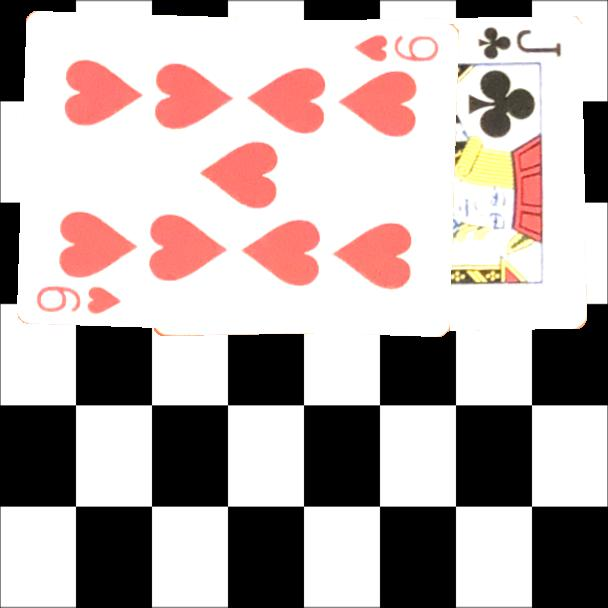c11: (474, 23, 564, 63)
h09: (33, 281, 125, 317), (351, 31, 442, 64)
